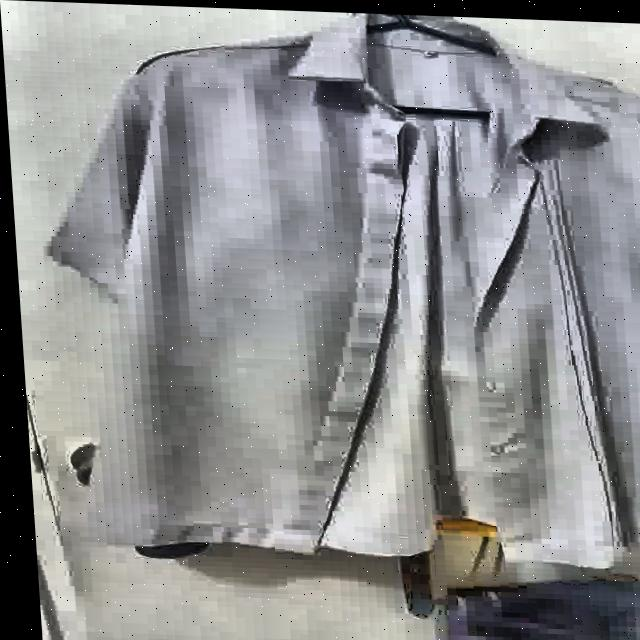clothes: (1, 8, 640, 640)
